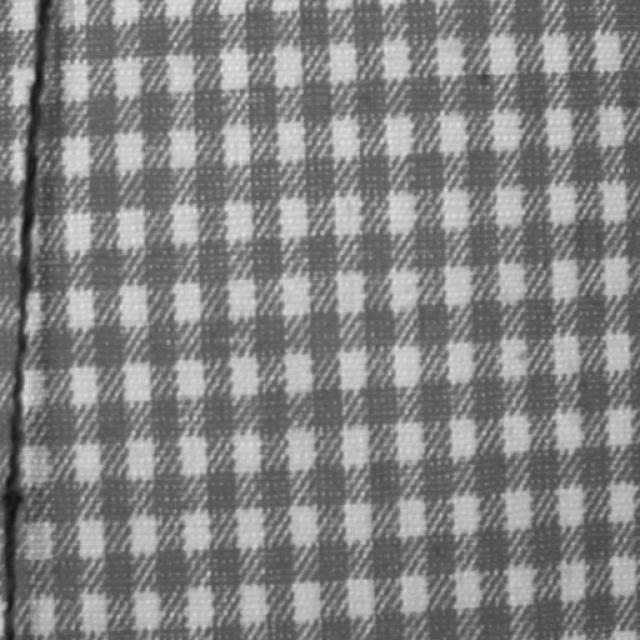Foreign-Body-Defect: (0, 1, 52, 636)
